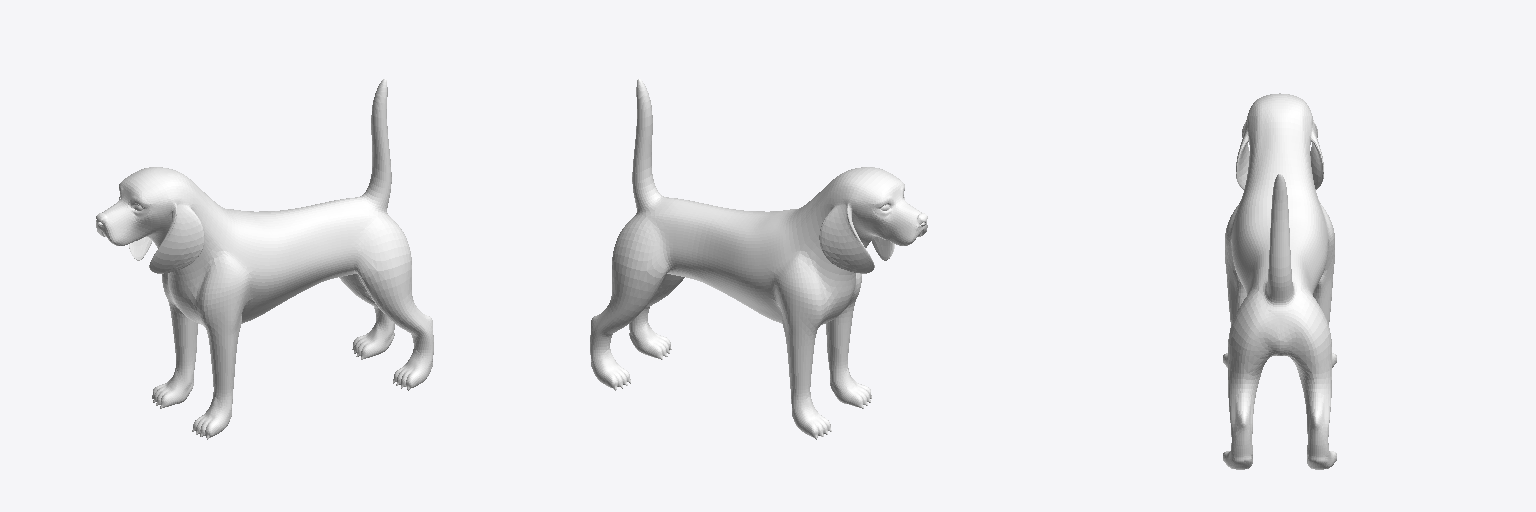
File: 13041_Beagle_v1_L1.obj
The picture shows the model from 3 angles: view 1: azimuth 30°, elevation 25°; view 2: azimuth 150°, elevation 25°; view 3: azimuth 270°, elevation 25°; orthographic projection.
Visible parts, largest first — view 1: 13041_Beagle; view 2: 13041_Beagle; view 3: 13041_Beagle.
Part boxes in pixels (x1,y1,x2,y2): 13041_Beagle: (96, 79, 433, 439); 13041_Beagle: (590, 79, 927, 439); 13041_Beagle: (1223, 93, 1336, 469).
Bounding box in the file's own units: 1.53 × 1.34 × 0.4794.